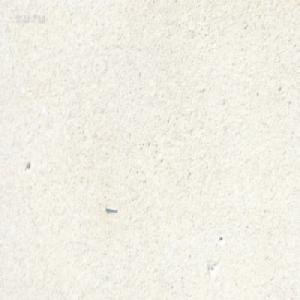Nail: (104, 204, 119, 214)
